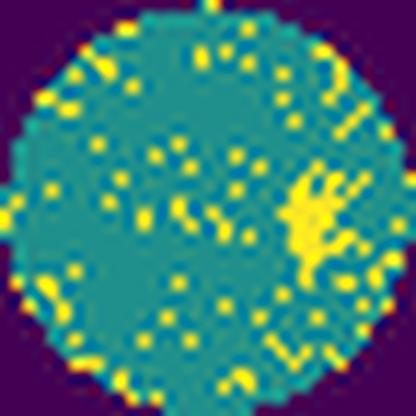Loc: (275, 156, 372, 290)
